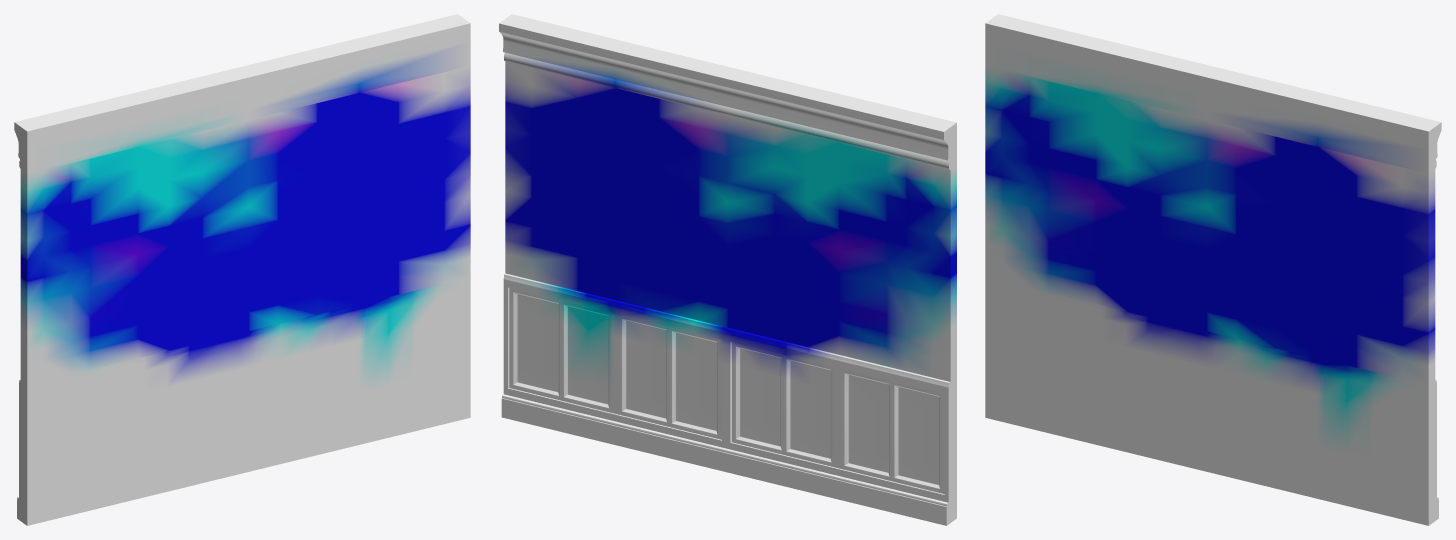
Rendered from SM_Wall_Interior_02.fbx.
3 renders of one model, left to right at view 1: azimuth 30°, elevation 25°; view 2: azimuth 150°, elevation 25°; view 3: azimuth 330°, elevation 25°, orthographic.
Parts seen in each view (by area): view 1: SM_Wall_Interior_02_LOD0; view 2: SM_Wall_Interior_02_LOD0; view 3: SM_Wall_Interior_02_LOD0.
Boxes of the visible parts, box(x1,y1,x2,y2) form: SM_Wall_Interior_02_LOD0: box(14, 14, 470, 525); SM_Wall_Interior_02_LOD0: box(499, 14, 956, 525); SM_Wall_Interior_02_LOD0: box(985, 14, 1441, 525).
Size of the model in its own units: 400 by 20.05 by 340.
